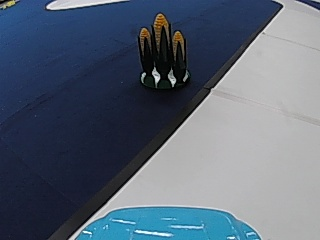corn: (134, 8, 192, 89)
